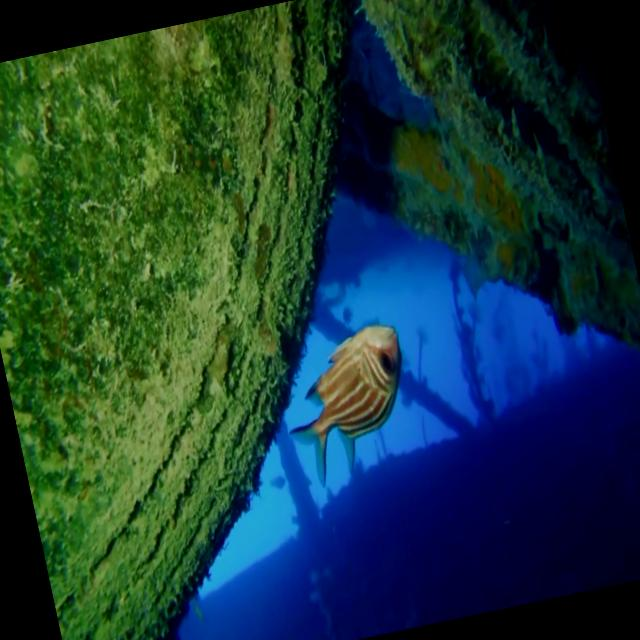Asker Baligi: (267, 316, 426, 494)
